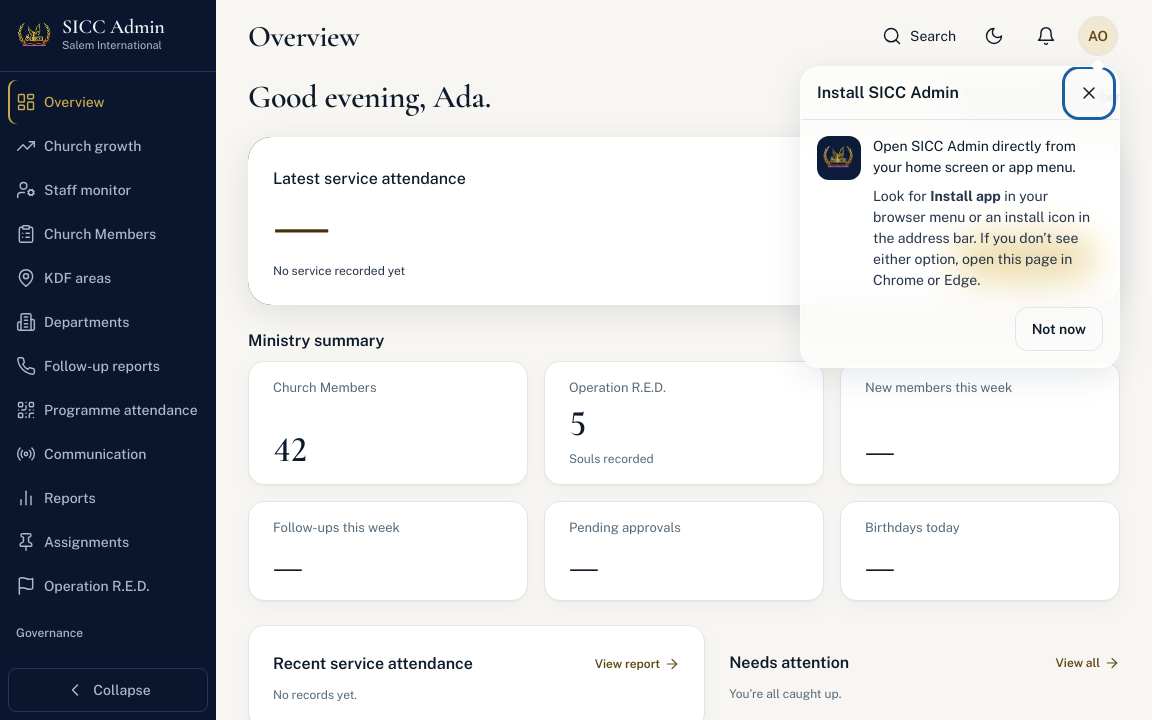
Test case: church directory › opens the names-only directory from the bishop membership count
Expected: the link "Operation R.E.D. 5 Souls recorded" is shown, [544,361,824,485]
Click the link "Church Members 42". click: (325, 388)
box: [248,361,528,485]
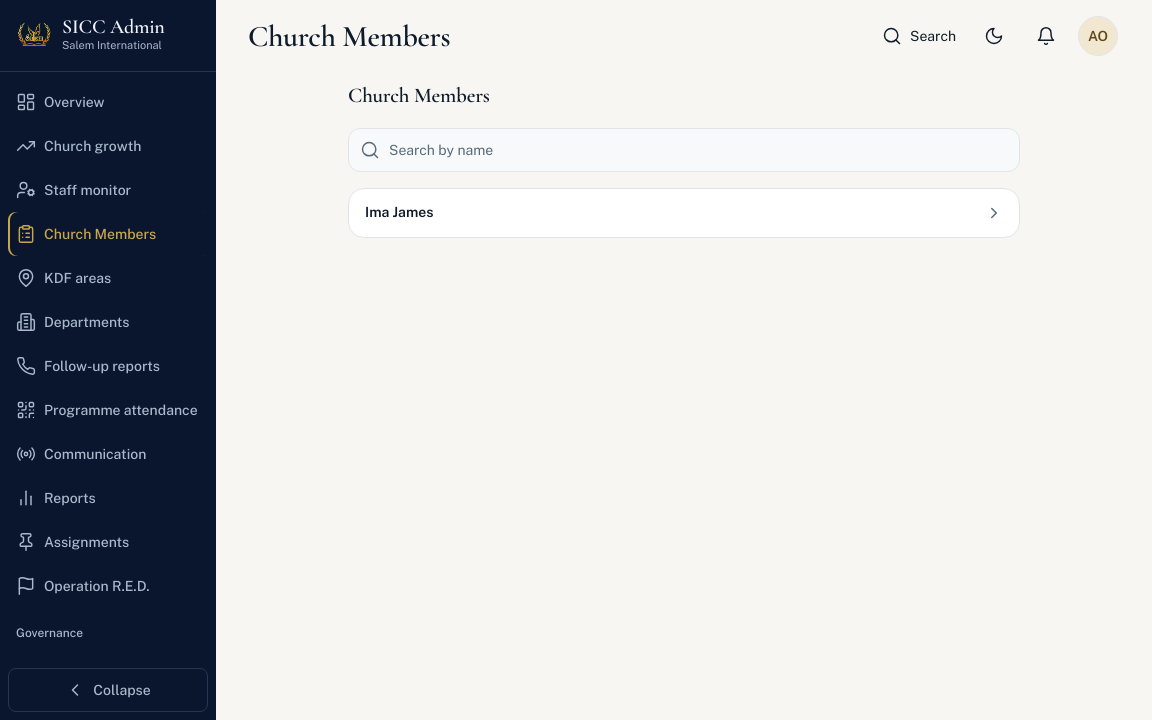
Now the link "Ima James" is shown, box [365,204,1003,222]
